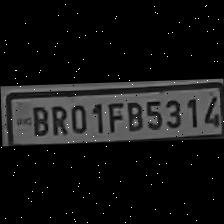0: (64, 101, 88, 135)
1: (86, 99, 106, 134), (181, 94, 199, 128)
3: (162, 96, 182, 130)
4: (198, 92, 220, 126)
5: (142, 95, 162, 130)
B: (26, 103, 48, 136), (122, 97, 142, 132)
F: (102, 98, 122, 134)
R: (46, 102, 66, 136)
